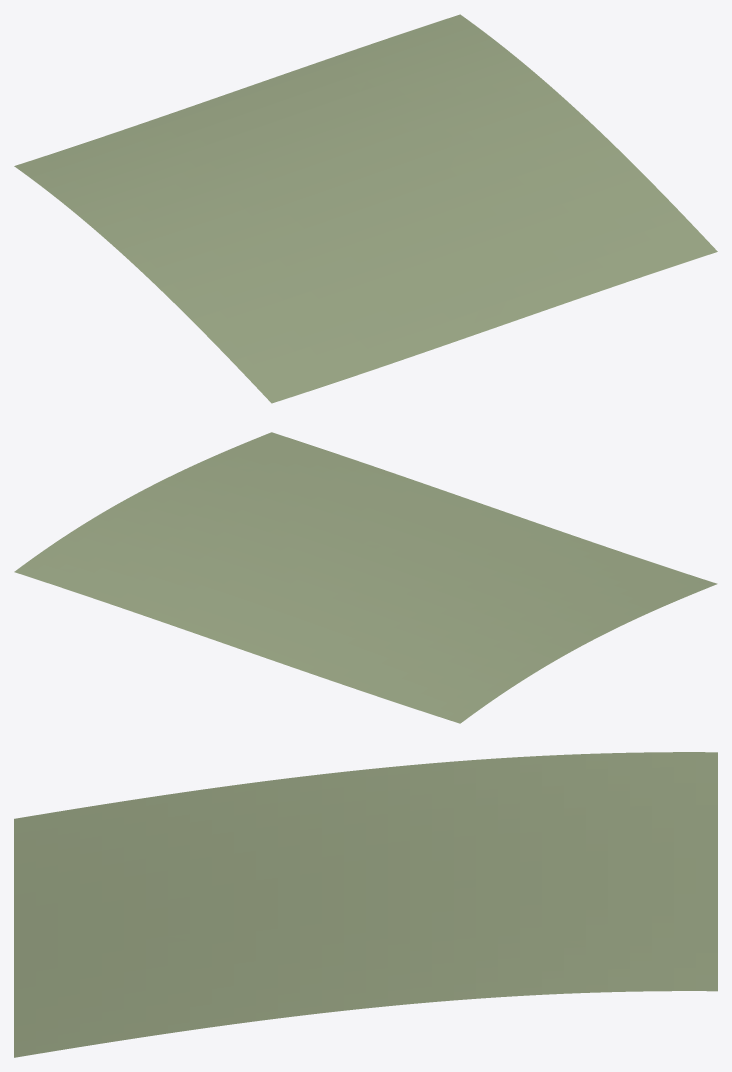
File: valley-5-15.glb
3 views of the same model, one above another, from view 1: azimuth 30°, elevation 25°; view 2: azimuth 150°, elevation 25°; view 3: azimuth 270°, elevation 25° (orthographic). The views are drawn at different scales.
Parts seen in each view (by area): view 1: valley-5-15; view 2: valley-5-15; view 3: valley-5-15.
Boxes of the visible parts, left/top/right/bottom form: valley-5-15: left=14, top=14, right=717, bottom=403; valley-5-15: left=14, top=432, right=717, bottom=723; valley-5-15: left=14, top=752, right=717, bottom=1057.
Bounding box in the file's own units: 256 × 50.28 × 256.
